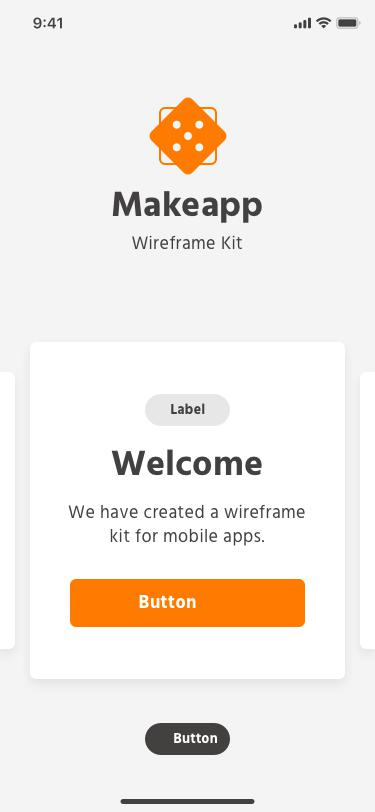Image: (149, 97, 228, 177)
Text: (67, 503, 307, 547), (111, 191, 264, 225), (112, 449, 264, 477), (132, 235, 246, 250)
TextButton: (70, 579, 305, 627), (145, 723, 232, 755), (145, 394, 231, 426)
UpperTaskBar: (33, 17, 361, 31)
